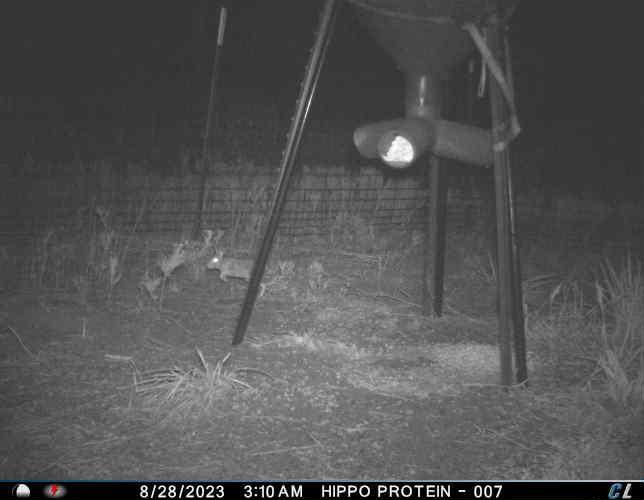Rabbit: (206, 246, 264, 282)
